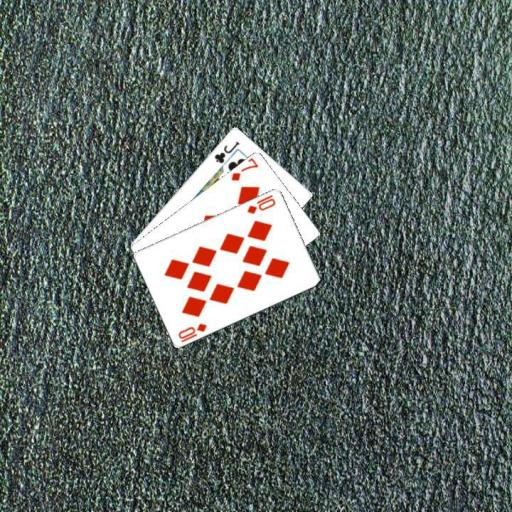10D: (244, 191, 277, 215), (175, 320, 208, 343)
7D: (228, 155, 260, 182)
JC: (211, 138, 241, 165)
